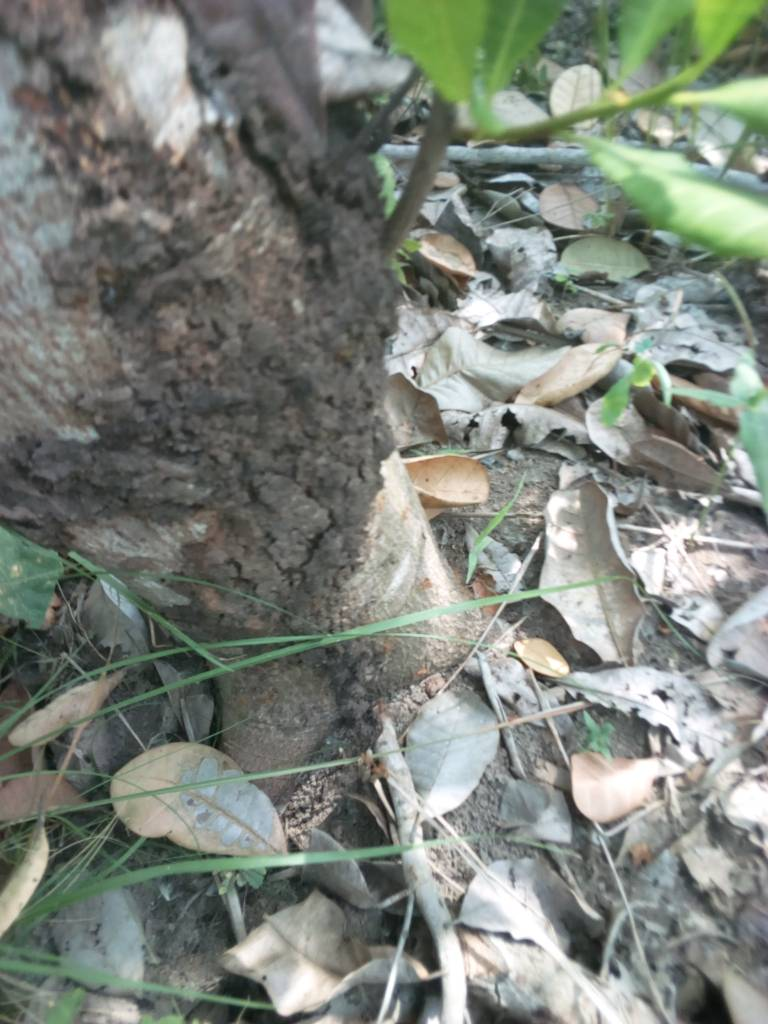Termites: (60, 163, 394, 607)
